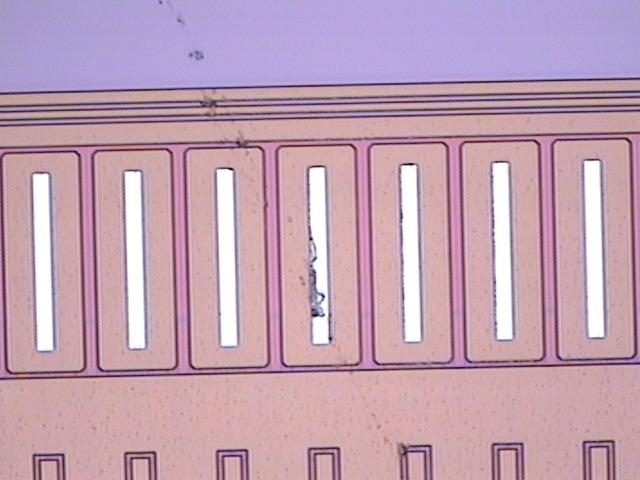SCRATCH: (158, 1, 419, 480)
